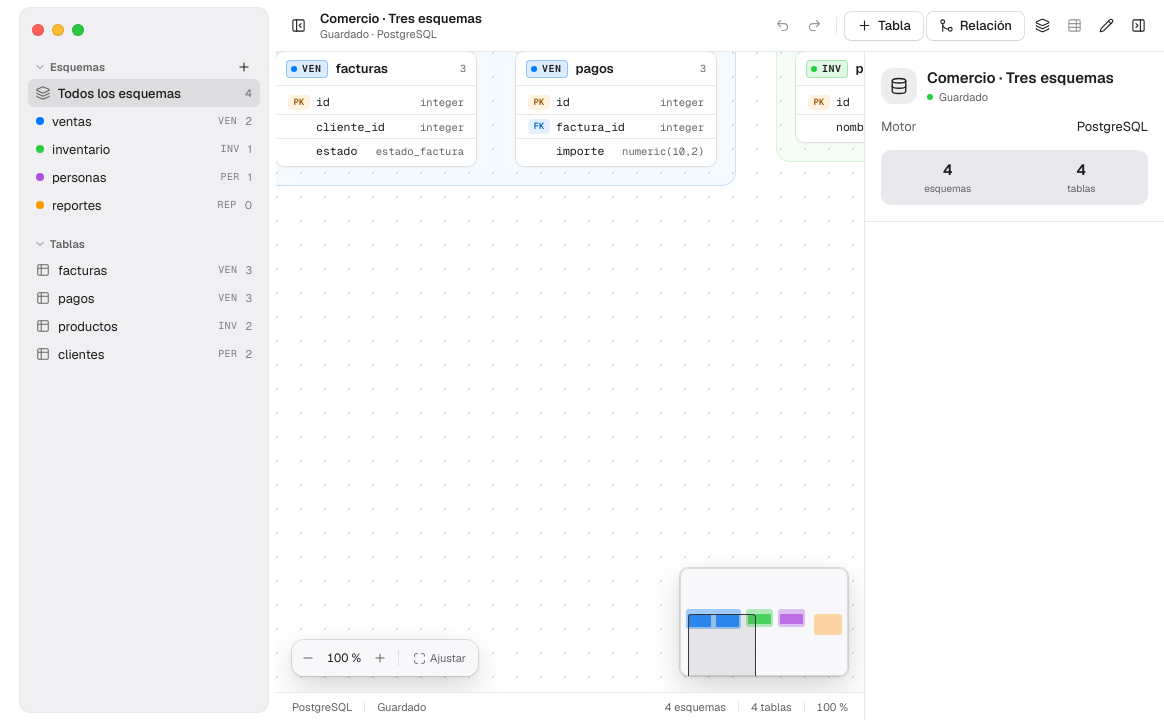
las cinco zonas del Editor › esconder la barra lateral la saca del árbol y el botón la devuelve (FR-006)
The width and height of the screenshot is (1164, 720).
Click the button named "Ocultar barra lateral".
click(298, 26)  # box [284,12,312,40]
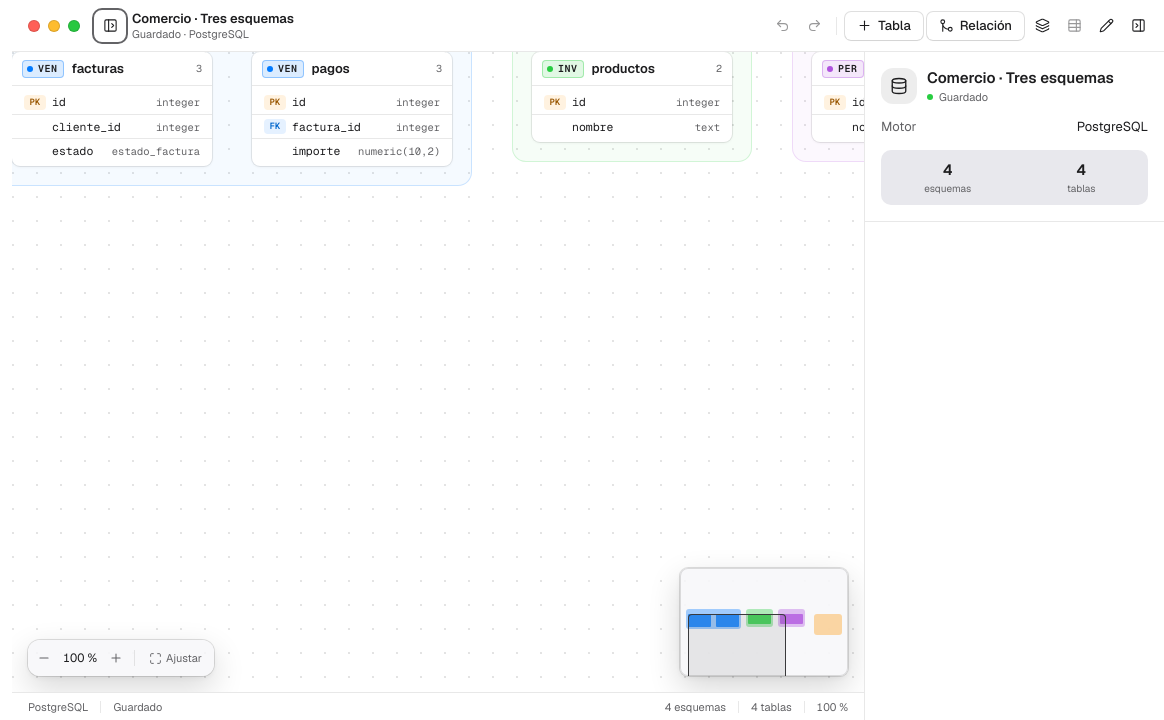
Check: the button named "Mostrar barra lateral" is not pressed
Click the button named "Mostrar barra lateral".
click(110, 26)  # box [96,12,124,40]
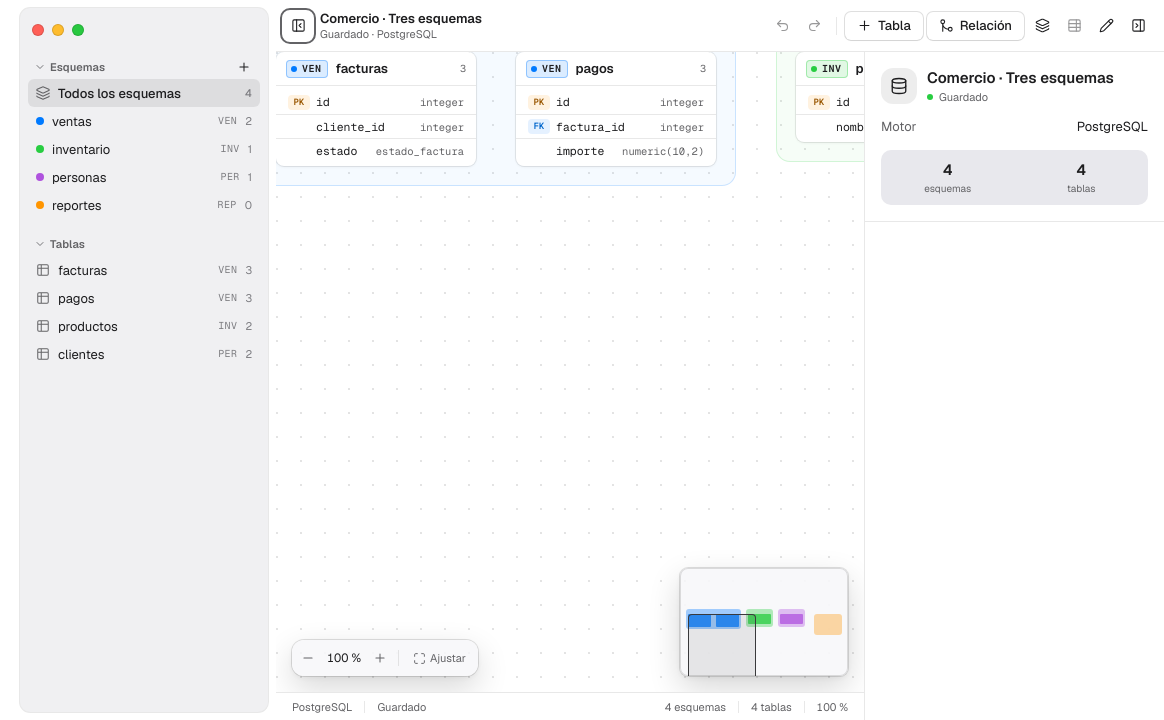
Check: the navigation bar named "Esquemas y tablas del modelo" is shown, box [20,8,268,712]
